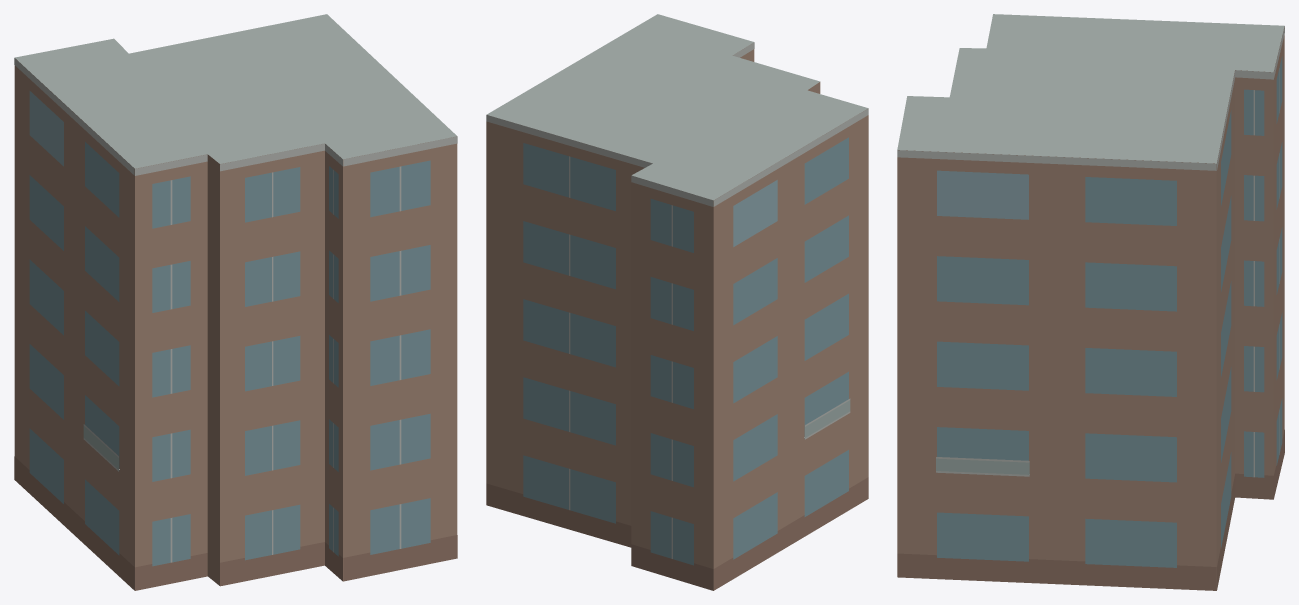
File: survey-upis-32675354.glb
3 renders of one model, left to right at view 1: azimuth 30°, elevation 25°; view 2: azimuth 150°, elevation 25°; view 3: azimuth 270°, elevation 25°, orthographic. The views are drawn at different scales.
Visible parts, largest first — view 1: survey-upis-32675354.tmp; view 2: survey-upis-32675354.tmp; view 3: survey-upis-32675354.tmp.
Part boxes in pixels (x1,y1,x2,y2): survey-upis-32675354.tmp: [14, 14, 457, 590]; survey-upis-32675354.tmp: [486, 14, 868, 590]; survey-upis-32675354.tmp: [897, 14, 1284, 590].
Size of the model in its own units: 10.67 by 14.2 by 11.68.
